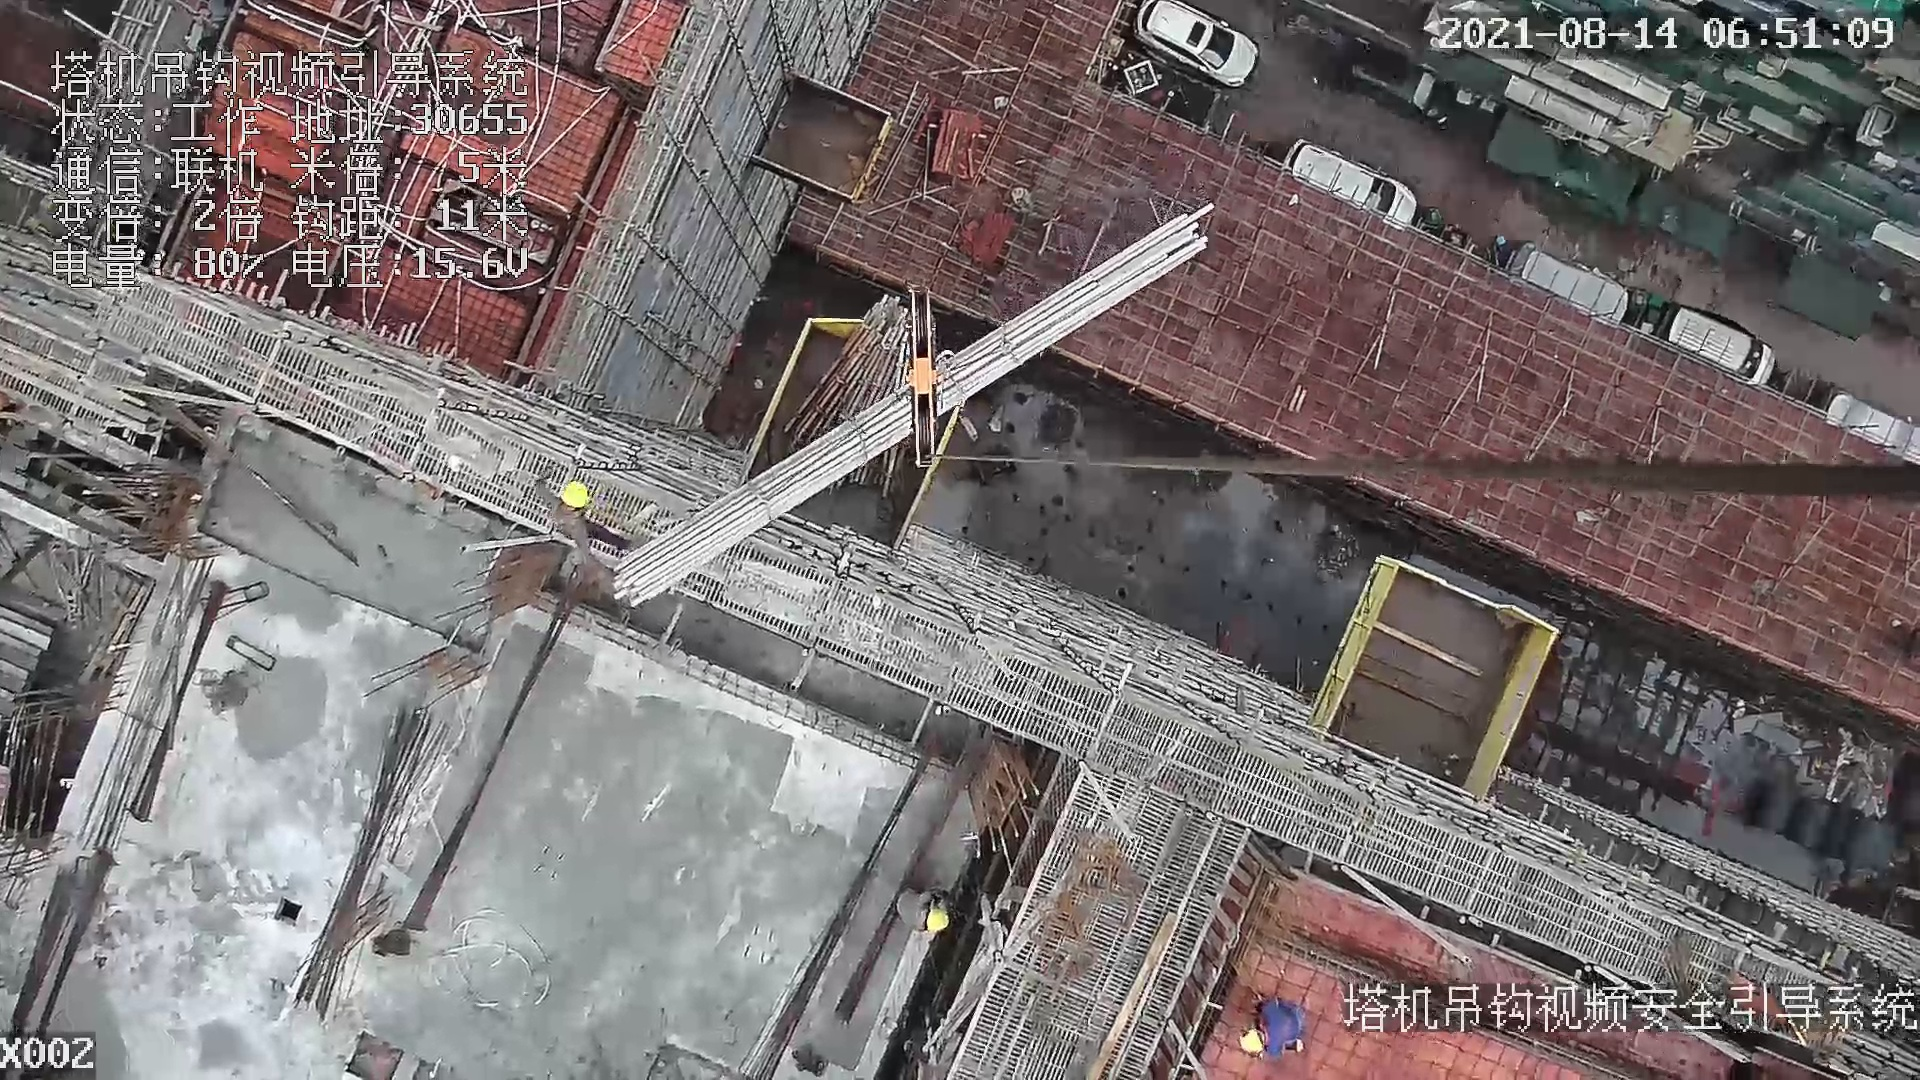helmet: (1236, 1023, 1263, 1060), (559, 477, 590, 506), (924, 904, 952, 935)
hook: (892, 280, 949, 472)
person: (533, 465, 637, 573), (1237, 989, 1314, 1060), (887, 883, 956, 936)
rebar: (608, 203, 1216, 610), (293, 707, 451, 1016)
scaffold: (785, 296, 893, 501)
